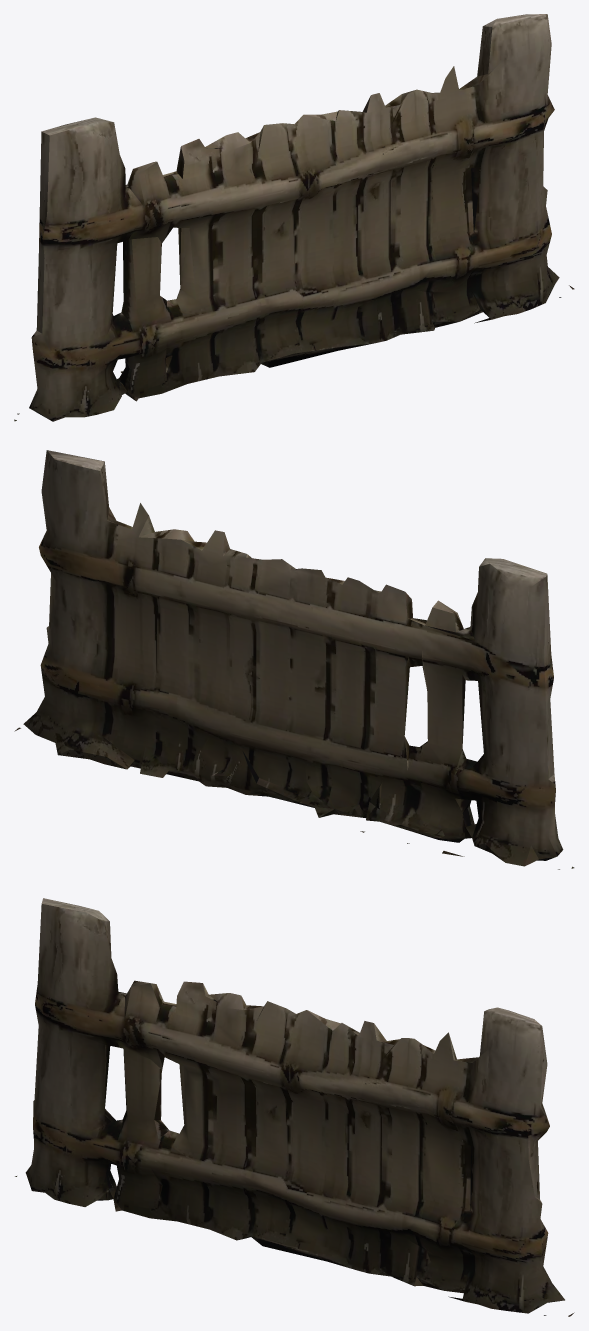
The model's file is goblin_palisade_c_lod.glb.
3 views of the same model, one above another, from view 1: azimuth 30°, elevation 25°; view 2: azimuth 150°, elevation 25°; view 3: azimuth 330°, elevation 25° (orthographic).
Visible parts, largest first — view 1: goblin_palisade_c; view 2: goblin_palisade_c; view 3: goblin_palisade_c.
Part boxes in pixels (bbox=[...]): goblin_palisade_c: bbox=[14, 14, 574, 421]; goblin_palisade_c: bbox=[14, 450, 574, 869]; goblin_palisade_c: bbox=[15, 898, 574, 1316].
Bounding box in the file's own units: 5.01 × 2.52 × 0.521.
Materials: 1 (1 with a texture image).
